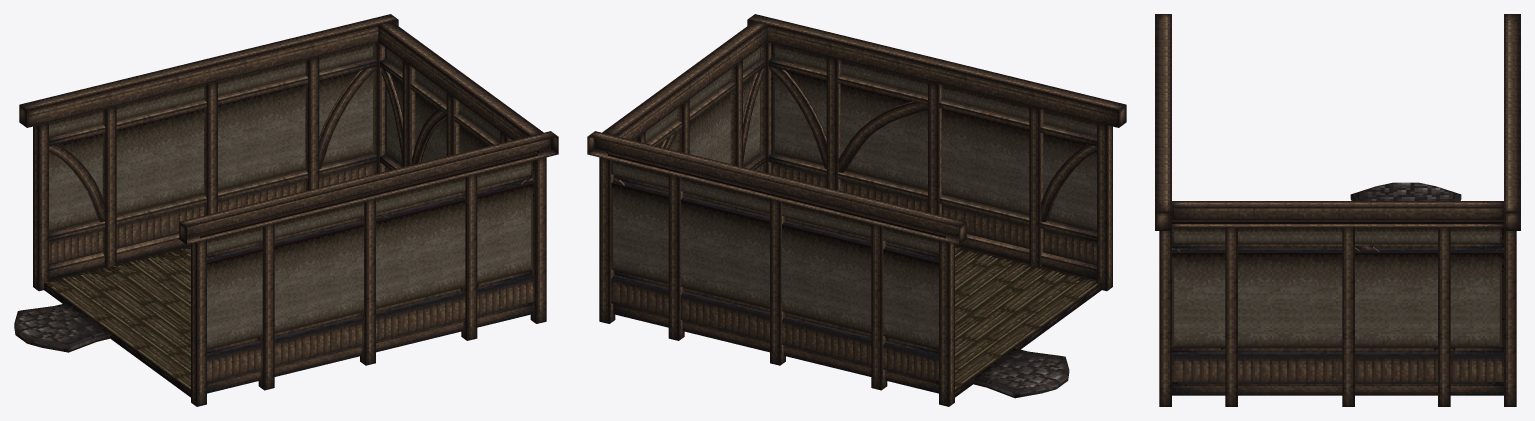
File: EnvBdgMD_Mount_A_Indoor_Item.FBX
3 views of the same model, side by side, from view 1: azimuth 30°, elevation 25°; view 2: azimuth 150°, elevation 25°; view 3: azimuth 270°, elevation 25° (orthographic). The views are drawn at different scales.
Parts seen in each view (by area): view 1: EnvBdgMD_Mount_A_Indoor_Item; view 2: EnvBdgMD_Mount_A_Indoor_Item; view 3: EnvBdgMD_Mount_A_Indoor_Item.
Part boxes in pixels (x1=…): EnvBdgMD_Mount_A_Indoor_Item: x1=14, y1=14, x2=558, y2=406; EnvBdgMD_Mount_A_Indoor_Item: x1=587, y1=14, x2=1126, y2=406; EnvBdgMD_Mount_A_Indoor_Item: x1=1155, y1=14, x2=1520, y2=406.
Bounding box in the file's own units: 1250 × 520 × 860.
1 material, 1 textured.
